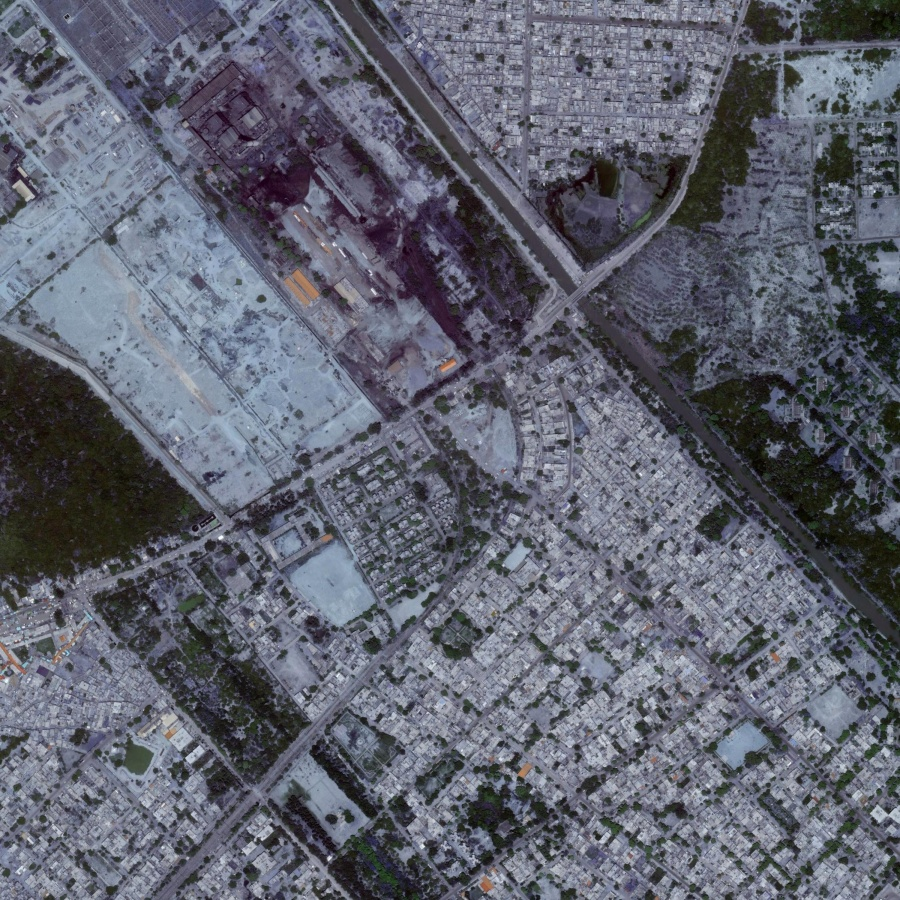PowerPlant: (179, 56, 478, 379)
